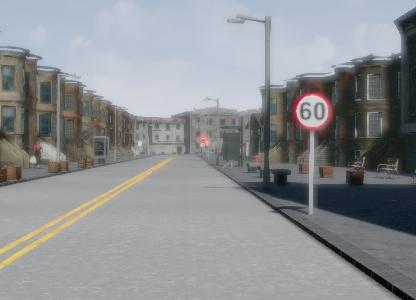Speed_60: (288, 85, 343, 138)
